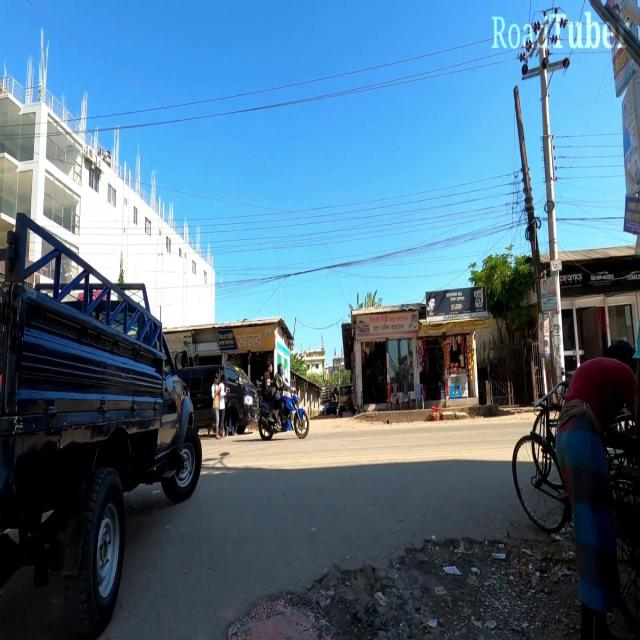black: (182, 356, 260, 433)
